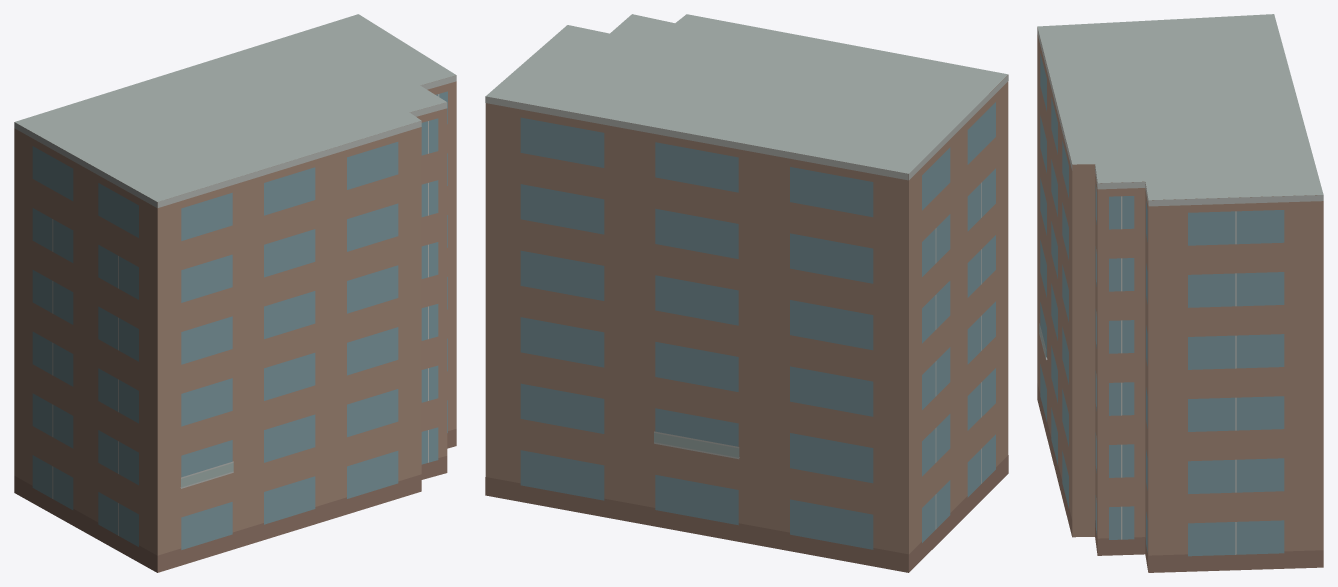
The model's file is survey-upis-32963715.glb.
3 views of the same model, side by side, from view 1: azimuth 30°, elevation 25°; view 2: azimuth 150°, elevation 25°; view 3: azimuth 270°, elevation 25° (orthographic). The views are drawn at different scales.
Visible parts, largest first — view 1: survey-upis-32963715.tmp; view 2: survey-upis-32963715.tmp; view 3: survey-upis-32963715.tmp.
Part boxes in pixels (x1,y1,x2,y2): survey-upis-32963715.tmp: (14,14,456,572); survey-upis-32963715.tmp: (485,14,1008,572); survey-upis-32963715.tmp: (1037,14,1323,572).
Size of the model in its own units: 15.66 by 14.6 by 10.18.
